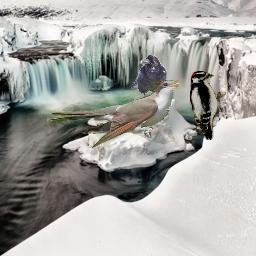Crow: (131, 54, 167, 100)
Cuckoo: (47, 80, 179, 148)
Woodpecker: (190, 71, 226, 140)
